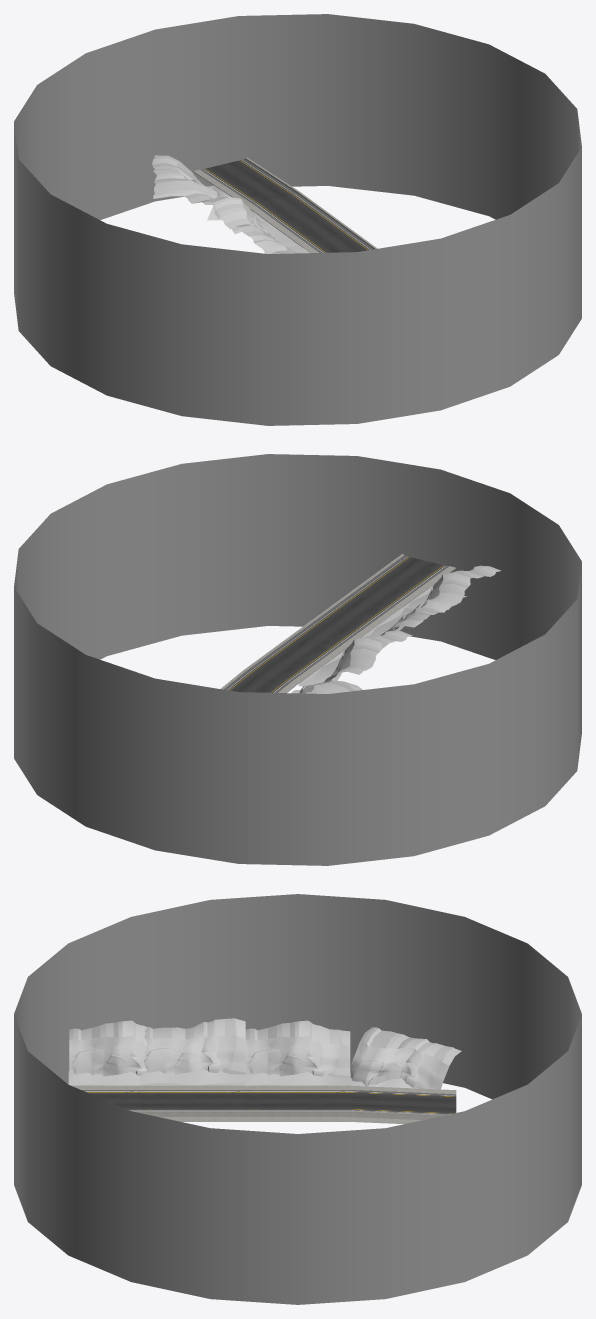
Rendered from garage9_outdoor.fbx.
3 renders of one model, top to bottom at view 1: azimuth 30°, elevation 25°; view 2: azimuth 150°, elevation 25°; view 3: azimuth 270°, elevation 25°, orthographic.
Visible parts, largest first — view 1: pCylinder1, polySurface5, polySurface6, pPlane8, pPlane6, polySurface7, pPlane7; view 2: pCylinder1, polySurface5, polySurface8, polySurface7, pPlane6, pPlane7, pPlane9, polySurface6, pPlane8; view 3: pCylinder1, pPlane6, pPlane7, pPlane8, pPlane9, polySurface5, polySurface7, polySurface6, polySurface8.
Part boxes in pixels (<box>): pCylinder1: <box>14,14,581,425</box>; polySurface5: <box>247,192,352,244</box>; polySurface6: <box>192,157,299,205</box>; pPlane8: <box>152,155,231,220</box>; pPlane6: <box>184,193,298,246</box>; polySurface7: <box>299,230,377,252</box>; pPlane7: <box>236,224,309,253</box>; pCylinder1: <box>14,454,581,865</box>; polySurface5: <box>243,632,349,684</box>; polySurface8: <box>349,554,455,606</box>; polySurface7: <box>296,593,402,645</box>; pPlane6: <box>298,630,412,686</box>; pPlane7: <box>361,592,466,648</box>; pPlane9: <box>403,565,501,627</box>; polySurface6: <box>221,670,296,692</box>; pPlane8: <box>291,680,362,693</box>; pCylinder1: <box>14,894,581,1304</box>; pPlane6: <box>245,1020,350,1085</box>; pPlane7: <box>140,1018,245,1085</box>; pPlane8: <box>350,1027,461,1089</box>; pPlane9: <box>68,1020,173,1085</box>; polySurface5: <box>245,1085,350,1121</box>; polySurface7: <box>139,1085,244,1121</box>; polySurface6: <box>350,1085,456,1123</box>; polySurface8: <box>71,1085,139,1112</box>.
Bounding box in the file's own units: 1.83 × 0.6074 × 1.83.
